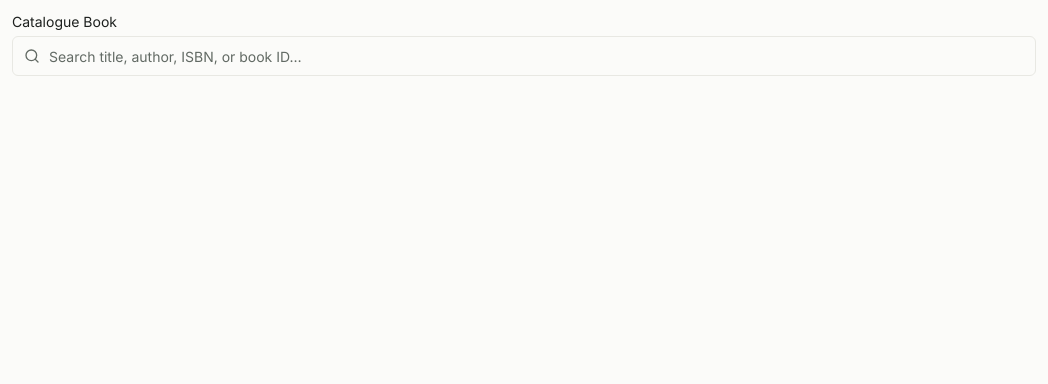
Test: CatalogueSelector › shows an error with a retry action when a direct catalogue query fails
The width and height of the screenshot is (1048, 384).
Focus the field named "Catalogue Book": x=524, y=56 [12, 36, 1036, 76]
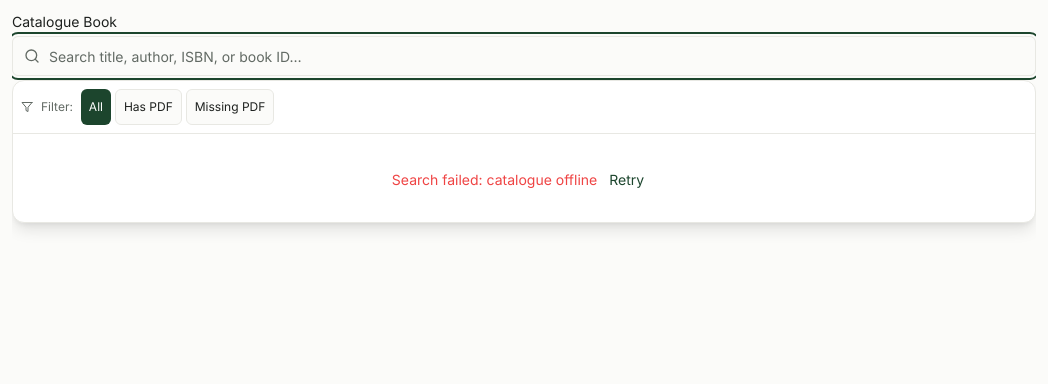
Expected: the message shows "catalogue offline", [487, 171, 597, 188]
Click the button "Retry": x=627, y=180 [597, 162, 656, 198]
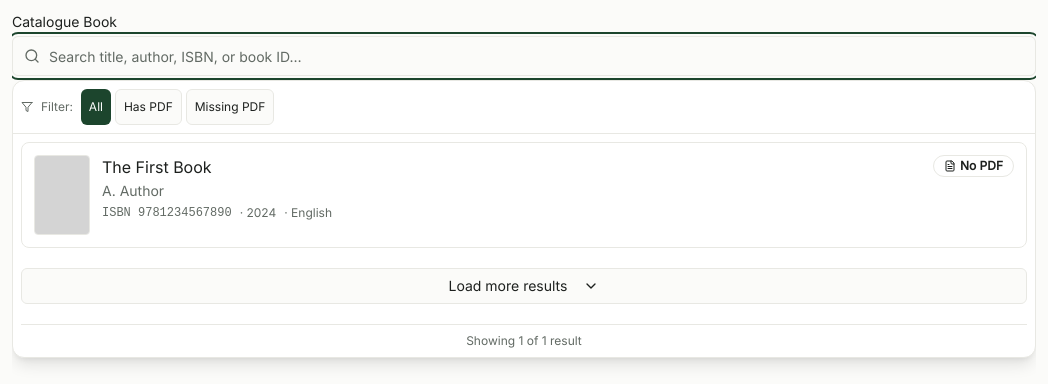
Expected: the option "The First Book" is shown, [21, 142, 1027, 248]
